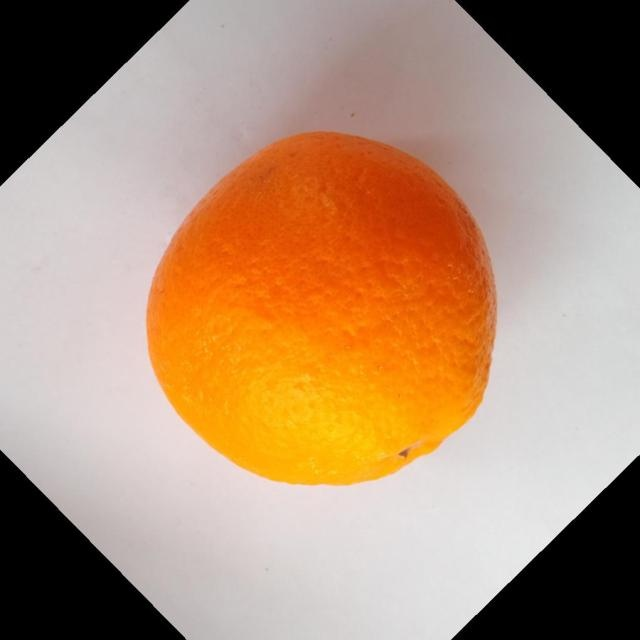agrume: (145, 129, 499, 487)
